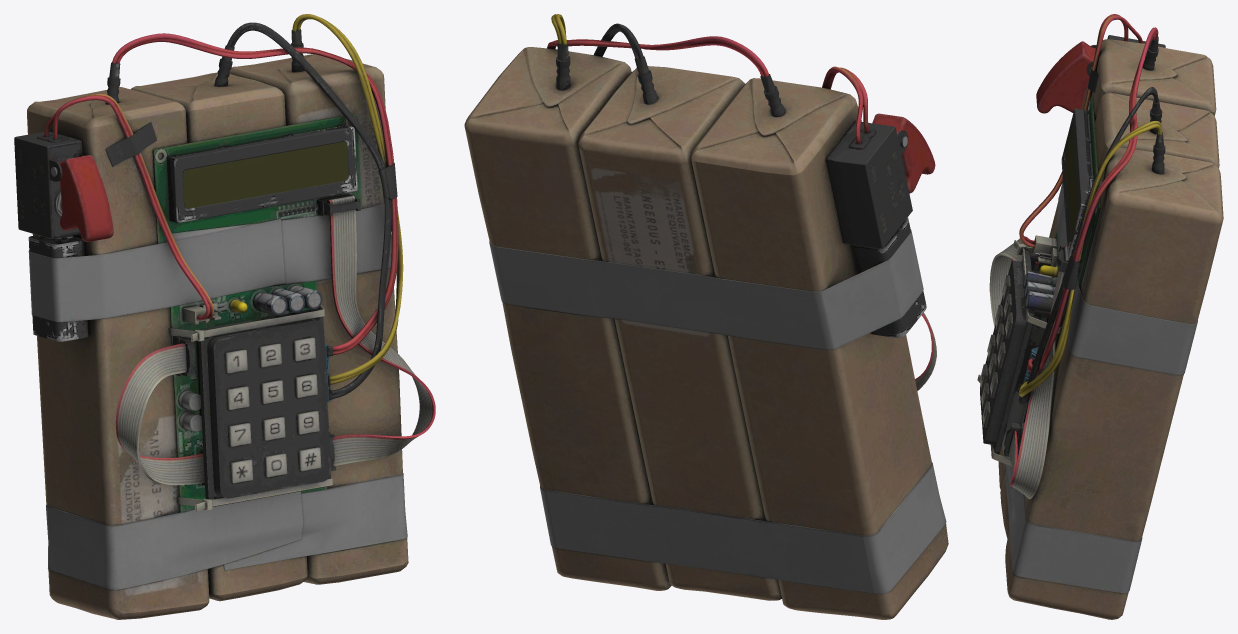
3 renders of one model, left to right at view 1: azimuth 30°, elevation 25°; view 2: azimuth 150°, elevation 25°; view 3: azimuth 270°, elevation 25°, orthographic. The views are drawn at different scales.
Parts seen in each view (by area): view 1: v_c4_R; view 2: v_c4_R; view 3: v_c4_R.
Boxes of the visible parts, bbox=[...] form: v_c4_R: bbox=[14, 14, 435, 619]; v_c4_R: bbox=[464, 14, 948, 619]; v_c4_R: bbox=[977, 14, 1223, 619].
Bounding box in the file's own units: 0.1856 × 0.2761 × 0.121.
Materials: 1 (1 with a texture image).
